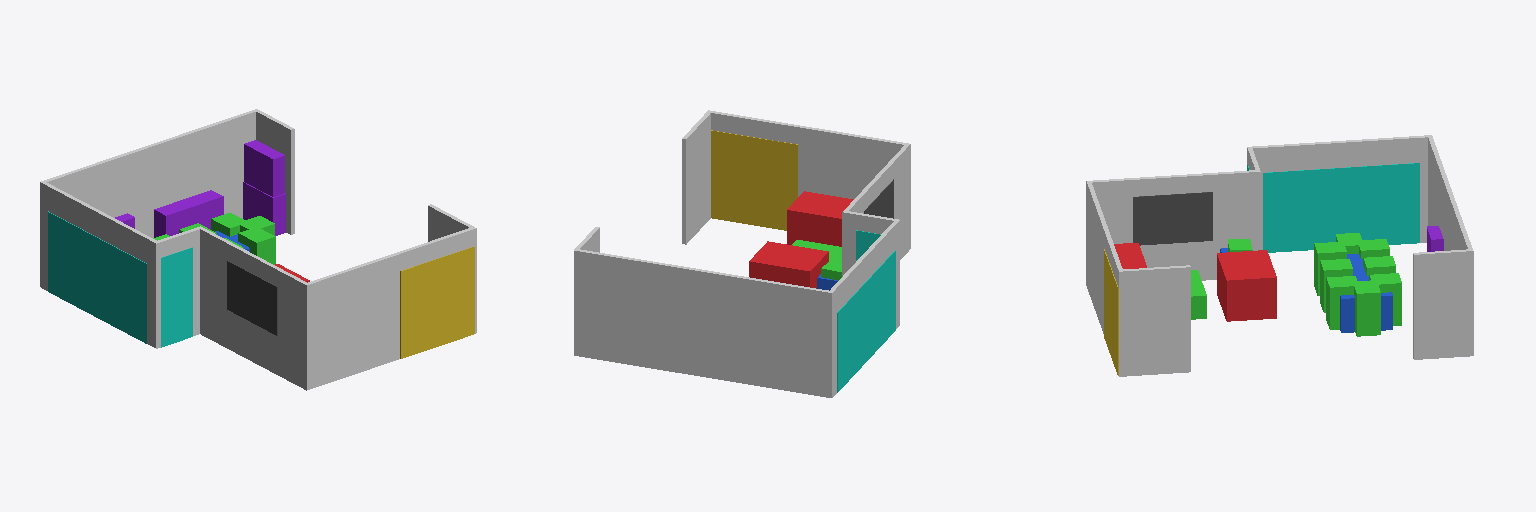
3 views of the same model, side by side, from view 1: azimuth 30°, elevation 25°; view 2: azimuth 150°, elevation 25°; view 3: azimuth 270°, elevation 25° (orthographic).
Parts seen in each view (by area): view 1: wall, doorClose, opening, storage, window, chair; view 2: wall, opening, sofa, doorClose, table, window; view 3: wall, doorClose, chair, sofa, window, table, opening.
Boxes of the visible parts, box(x1,y1,x2,y2) form: wall: box(40, 109, 476, 390); doorClose: box(48, 211, 192, 347); opening: box(400, 246, 474, 358); storage: box(115, 140, 285, 237); window: box(227, 261, 277, 335); chair: box(153, 213, 275, 264); wall: box(574, 110, 910, 397); opening: box(711, 130, 797, 230); sofa: box(749, 191, 853, 288); doorClose: box(837, 230, 895, 392); table: box(792, 240, 841, 290); window: box(864, 179, 893, 218); wall: box(1086, 135, 1473, 376); doorClose: box(1247, 163, 1419, 252); chair: box(1228, 233, 1401, 336); sofa: box(1114, 243, 1276, 321); window: box(1133, 192, 1212, 245); table: box(1191, 248, 1392, 332); opening: box(1104, 249, 1118, 375).
Bounding box in the file's own units: 6.87 × 2.47 × 8.22.